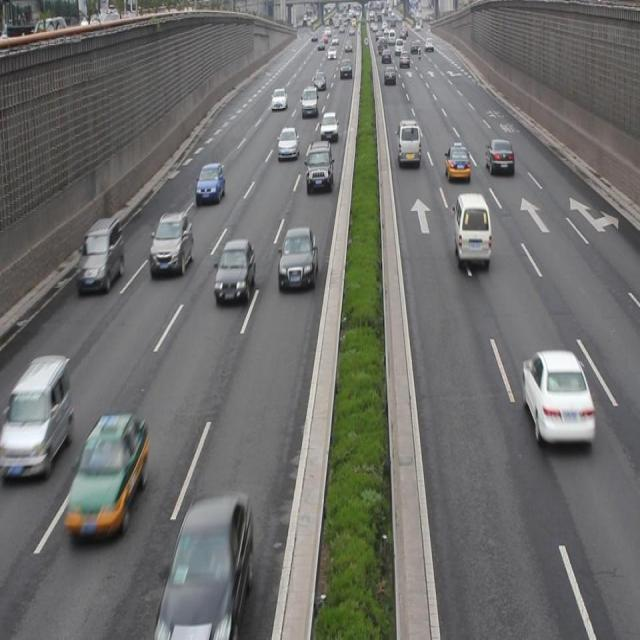car: (158, 489, 253, 640), (66, 412, 148, 540), (520, 348, 594, 444), (76, 216, 125, 294), (150, 210, 194, 277), (278, 224, 317, 290), (214, 239, 253, 305), (305, 139, 333, 193), (484, 135, 514, 178), (197, 161, 224, 205), (446, 142, 470, 182), (277, 125, 299, 159), (319, 110, 339, 144)
truck: (8, 352, 72, 480), (454, 192, 489, 263), (396, 118, 420, 168)
